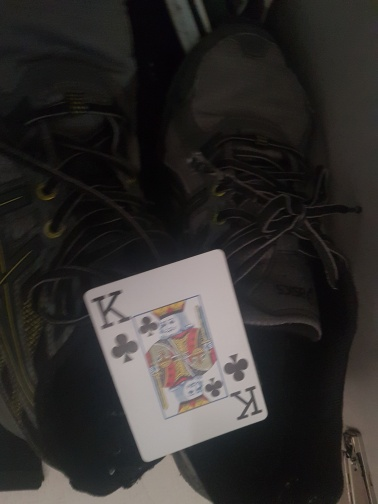king: (82, 247, 268, 462)
